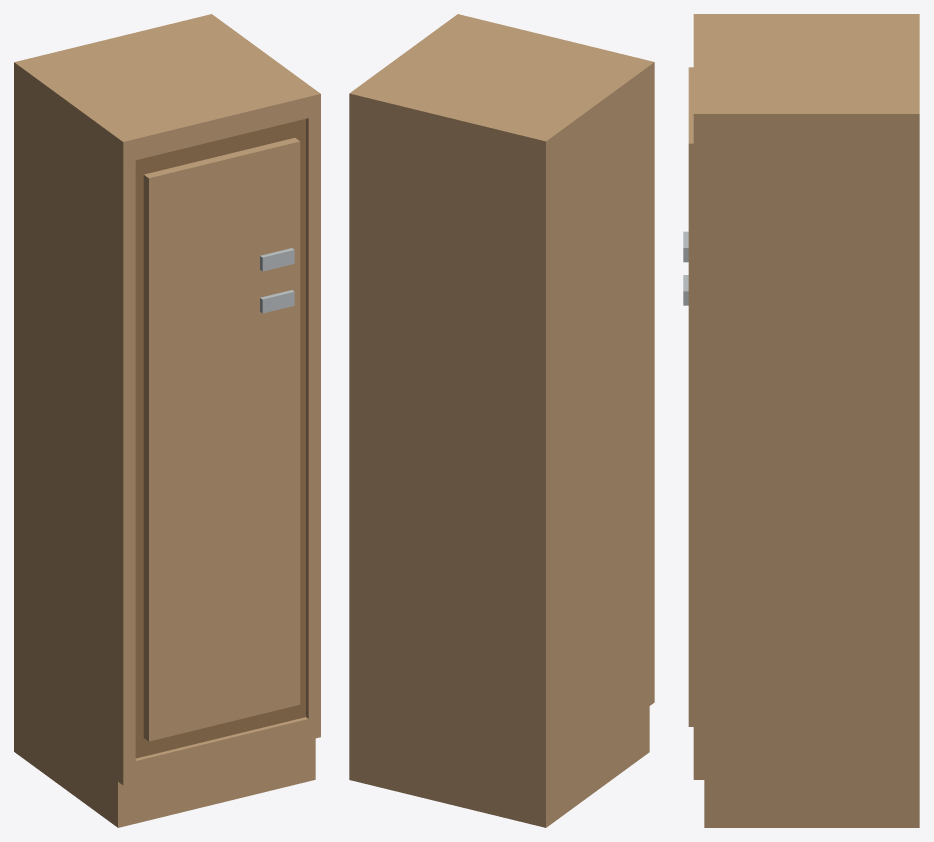
File: fridge-integrated.glb
3 renders of one model, left to right at view 1: azimuth 30°, elevation 25°; view 2: azimuth 150°, elevation 25°; view 3: azimuth 270°, elevation 25°, orthographic. The views are drawn at different scales.
Parts seen in each view (by area): view 1: fridge-integrated; view 2: fridge-integrated; view 3: fridge-integrated.
Part boxes in pixels (x1=…): fridge-integrated: x1=14, y1=14, x2=320, y2=827; fridge-integrated: x1=349, y1=14, x2=654, y2=827; fridge-integrated: x1=683, y1=14, x2=919, y2=827.
Size of the model in its own units: 0.6 by 2 by 0.6.
